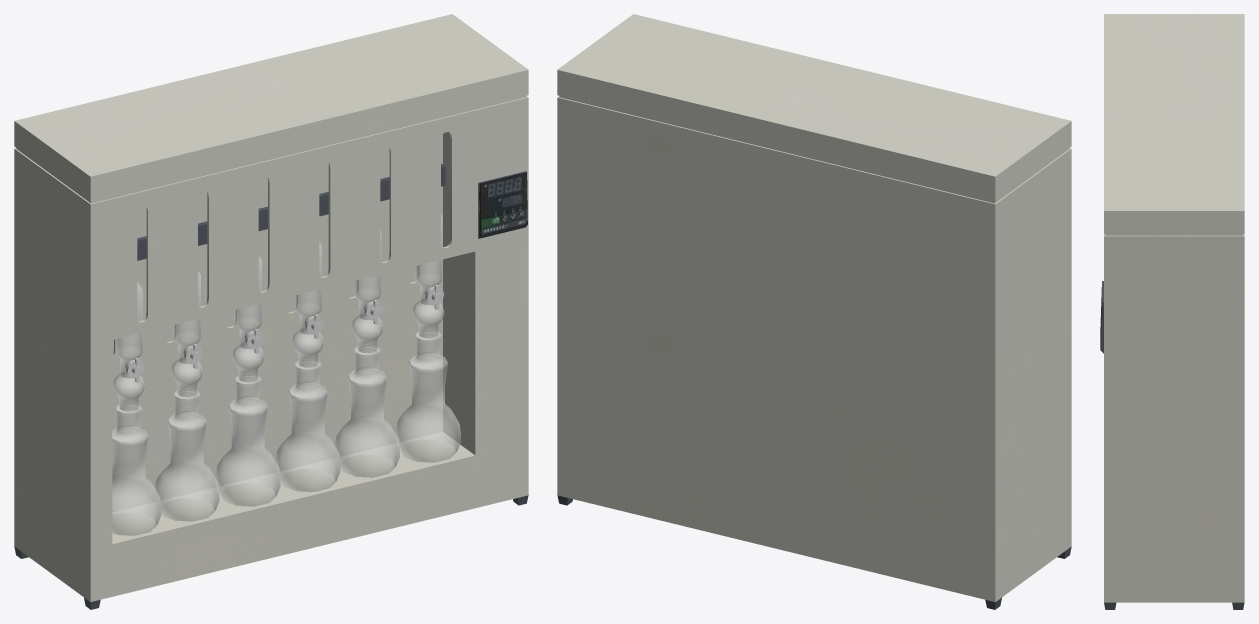
File: SM_脂肪测定仪.FBX
The picture shows the model from 3 angles, left to right: view 1: azimuth 30°, elevation 25°; view 2: azimuth 150°, elevation 25°; view 3: azimuth 270°, elevation 25°; orthographic projection. The views are drawn at different scales.
Visible parts, largest first — view 1: SM_脂肪测定仪; view 2: SM_脂肪测定仪; view 3: SM_脂肪测定仪.
Boxes of the visible parts, box(x1,y1,x2,y2) form: SM_脂肪测定仪: box(14, 14, 528, 609); SM_脂肪测定仪: box(557, 14, 1071, 609); SM_脂肪测定仪: box(1100, 14, 1244, 609).
Bounding box in the file's own units: 0.3234 × 0.306 × 0.1.
